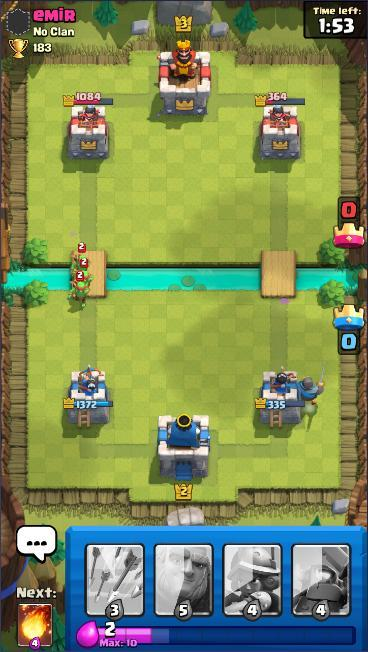ally_knight: (292, 366, 326, 408)
enemy_spear_goblin: (65, 269, 96, 309), (70, 256, 97, 293), (69, 241, 94, 279)
